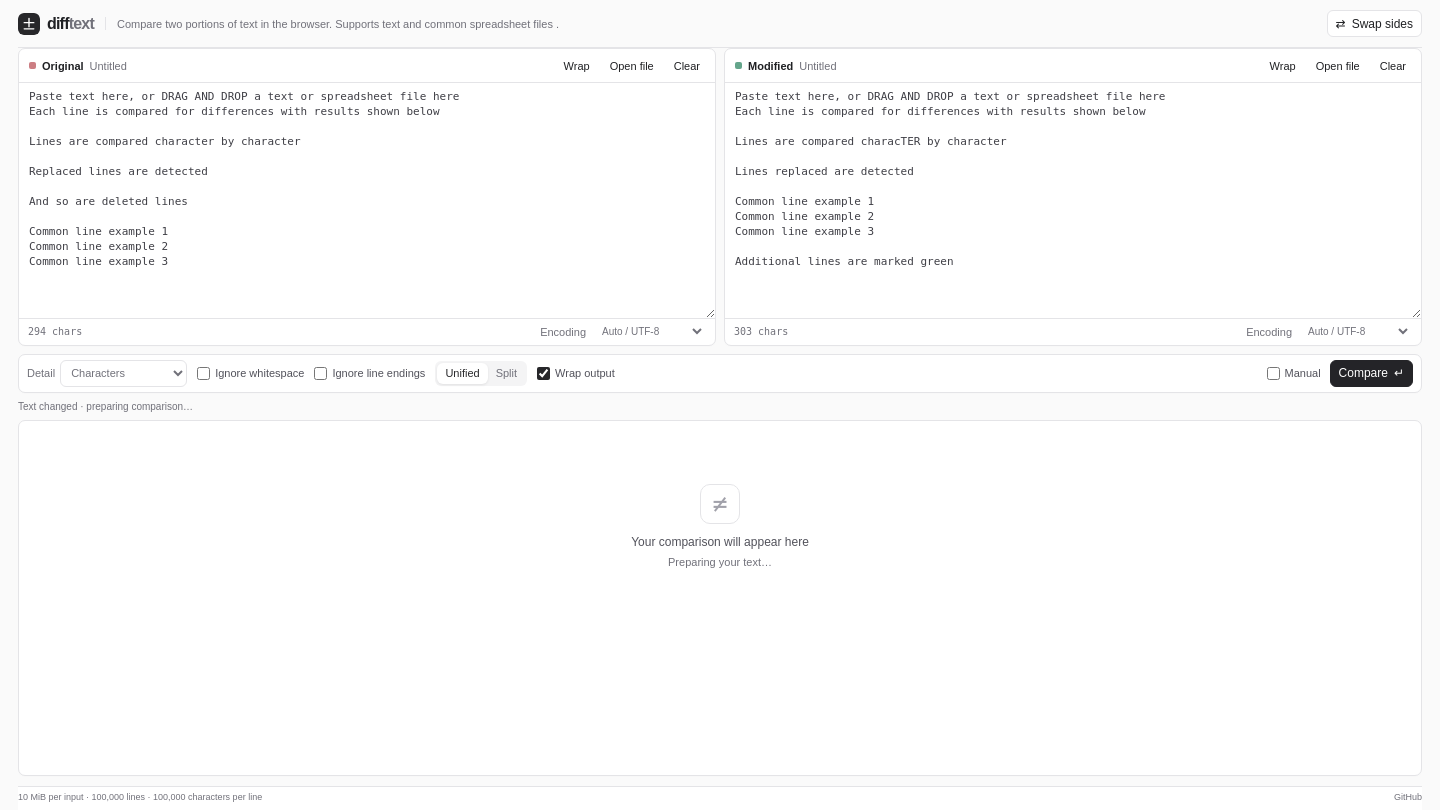
Test case: App › swaps the visible latest text without waiting for comparison
Replace the text in the text box labelled "Original" with "just typed". click: {"x": 367, "y": 200}
box: [19, 83, 715, 318]
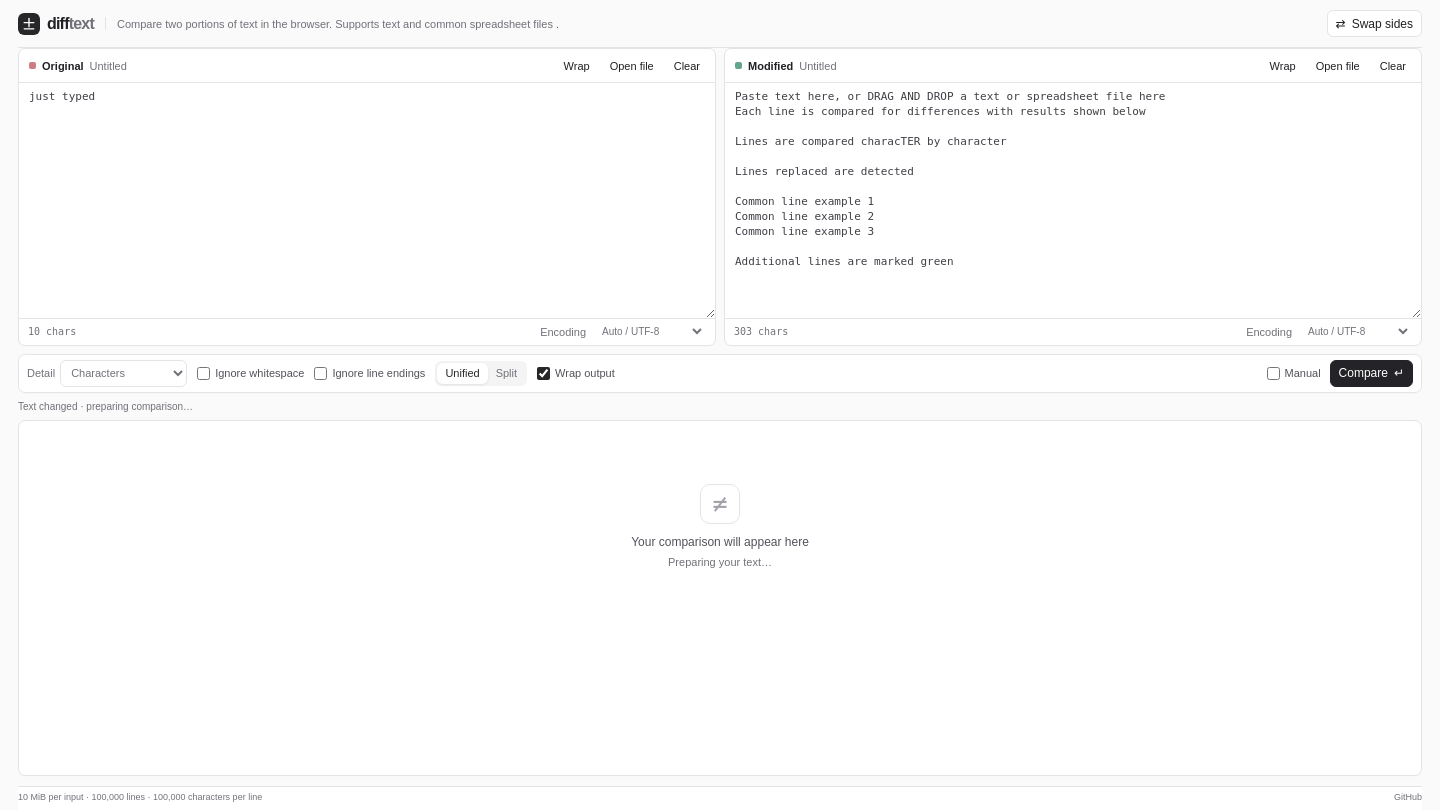
Replace the text in the text box labelled "Modified" with "right value". click: {"x": 1073, "y": 200}
box: [725, 83, 1421, 318]
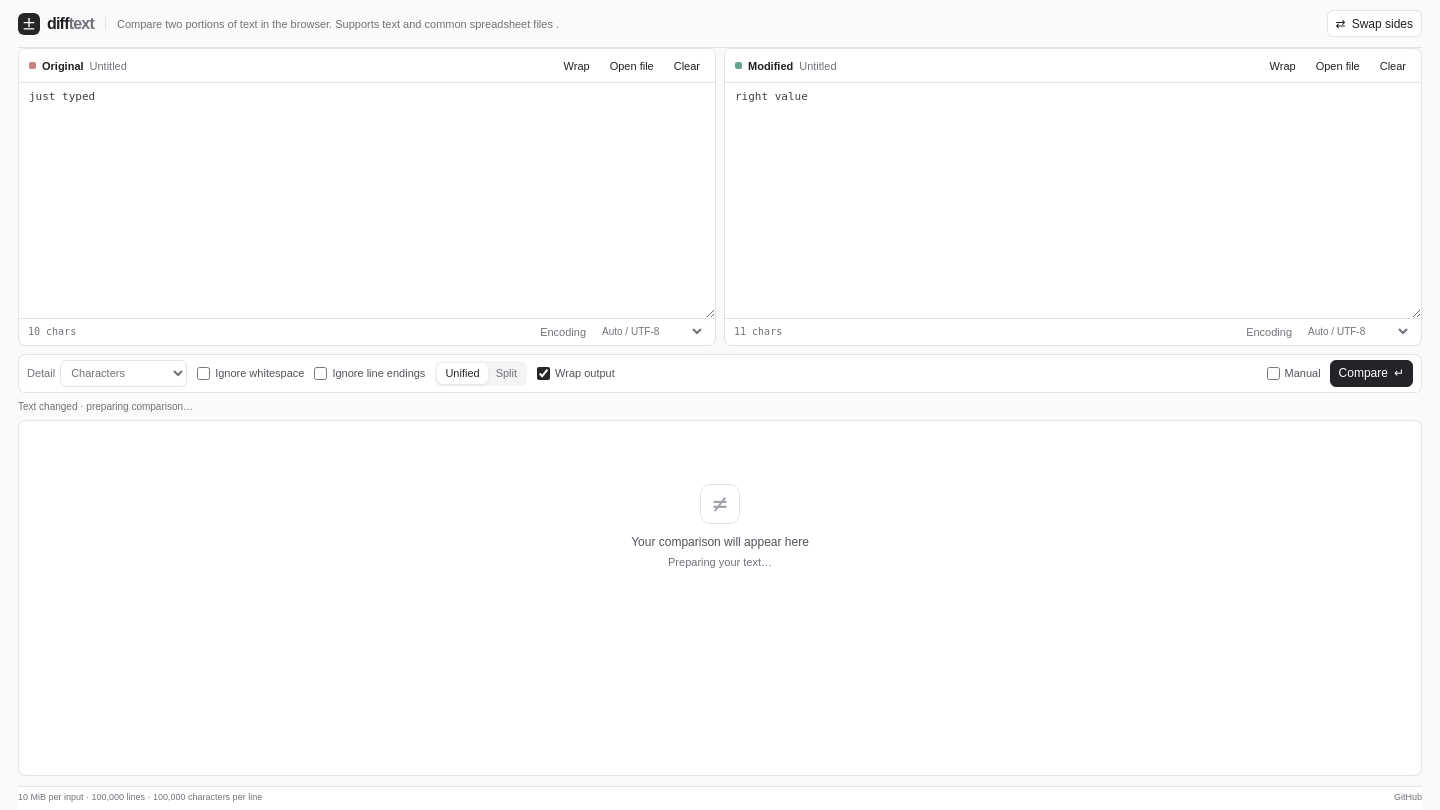
Click the button with aria-label "Swap original and modified". click: {"x": 1374, "y": 24}
box: [1327, 10, 1422, 37]
Wait 300 ms
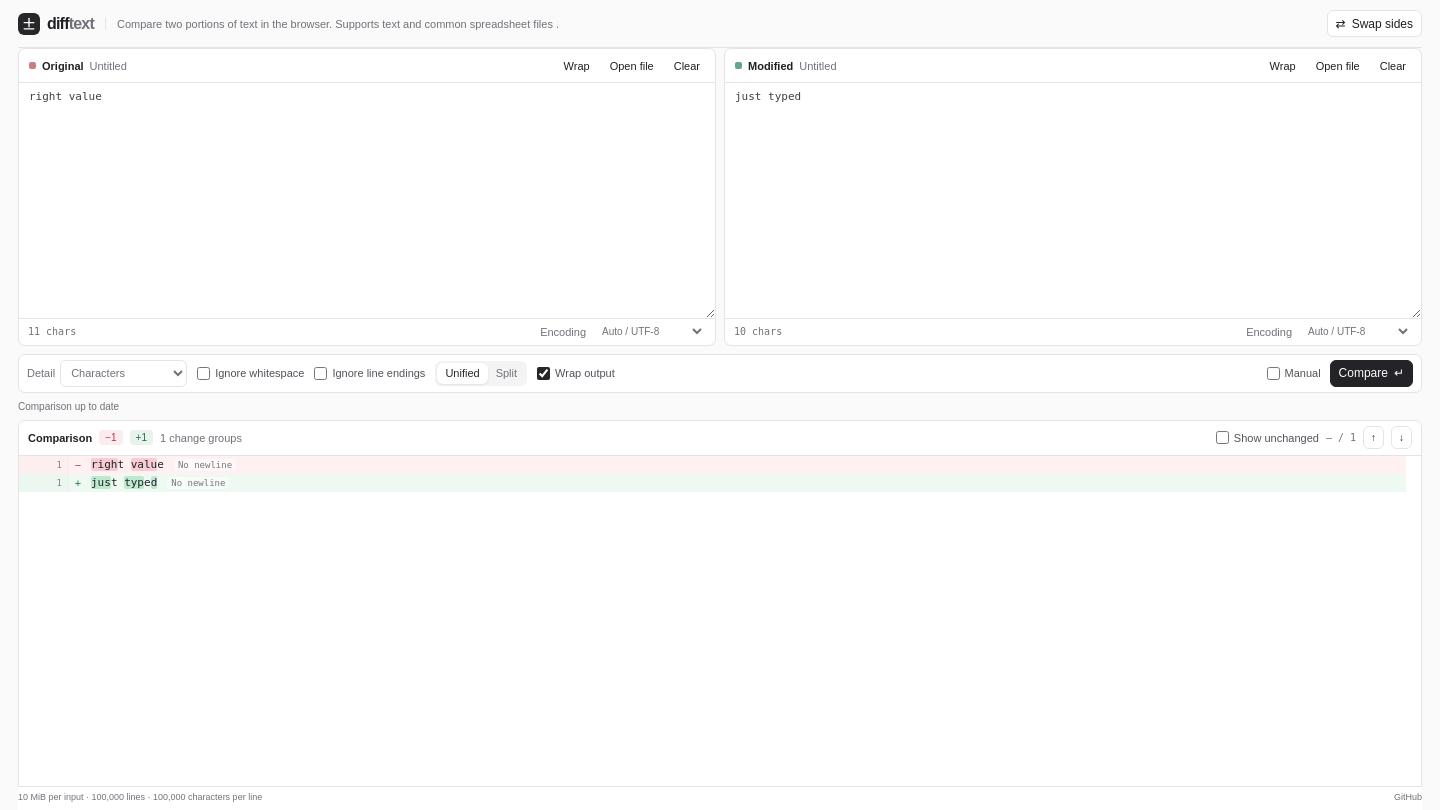
expect the text box labelled "Original" holds "right value": met, box [19, 83, 715, 318]
expect the text box labelled "Modified" holds "just typed": met, box [725, 83, 1421, 318]
